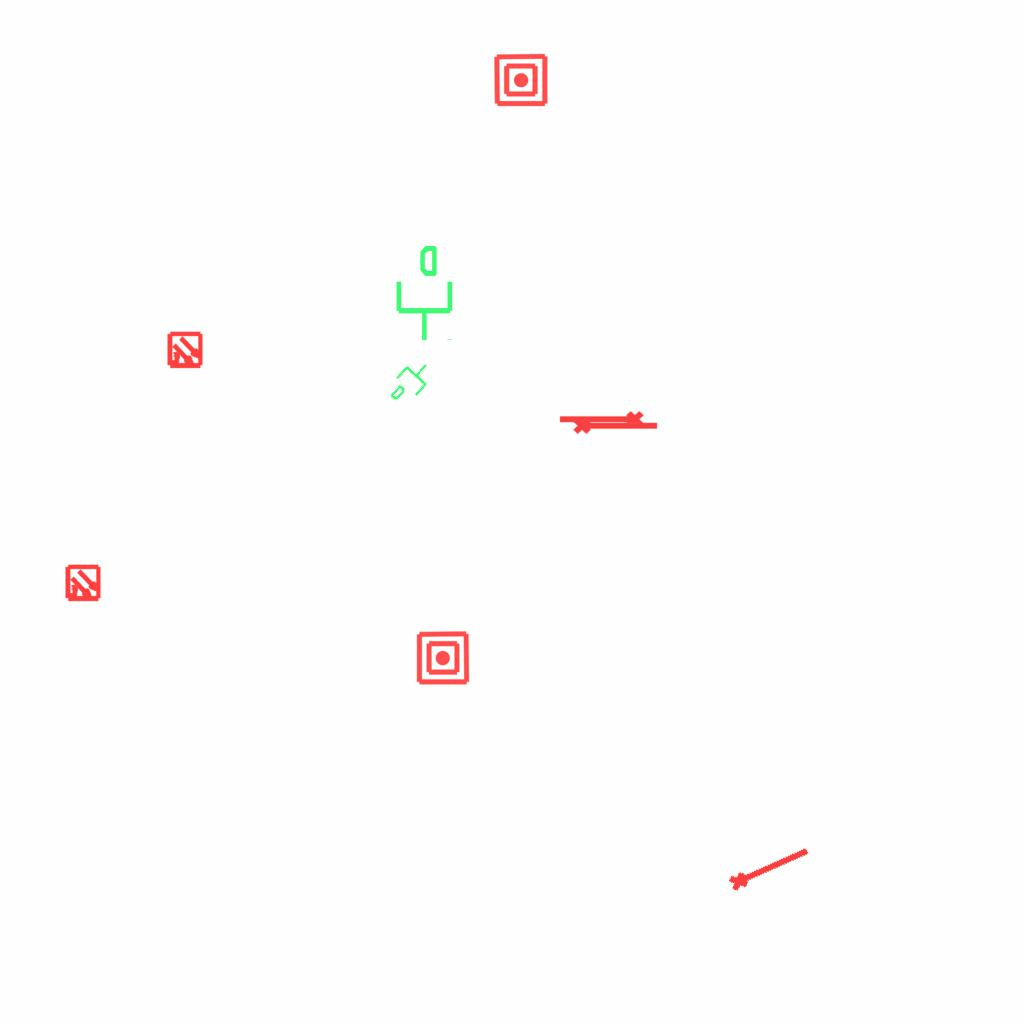ASR_Ansaugoeffnung: (724, 838, 814, 895), (557, 409, 645, 432), (572, 413, 660, 436)
Datenanschluss_einfach: (388, 243, 457, 343), (381, 353, 441, 413)
NAM-Nichtautomatischer_Melder: (415, 630, 471, 686), (493, 52, 549, 108)
OT_Multisensormelder_(Kombination_RMO_WMD): (157, 323, 213, 379), (55, 556, 111, 612)
